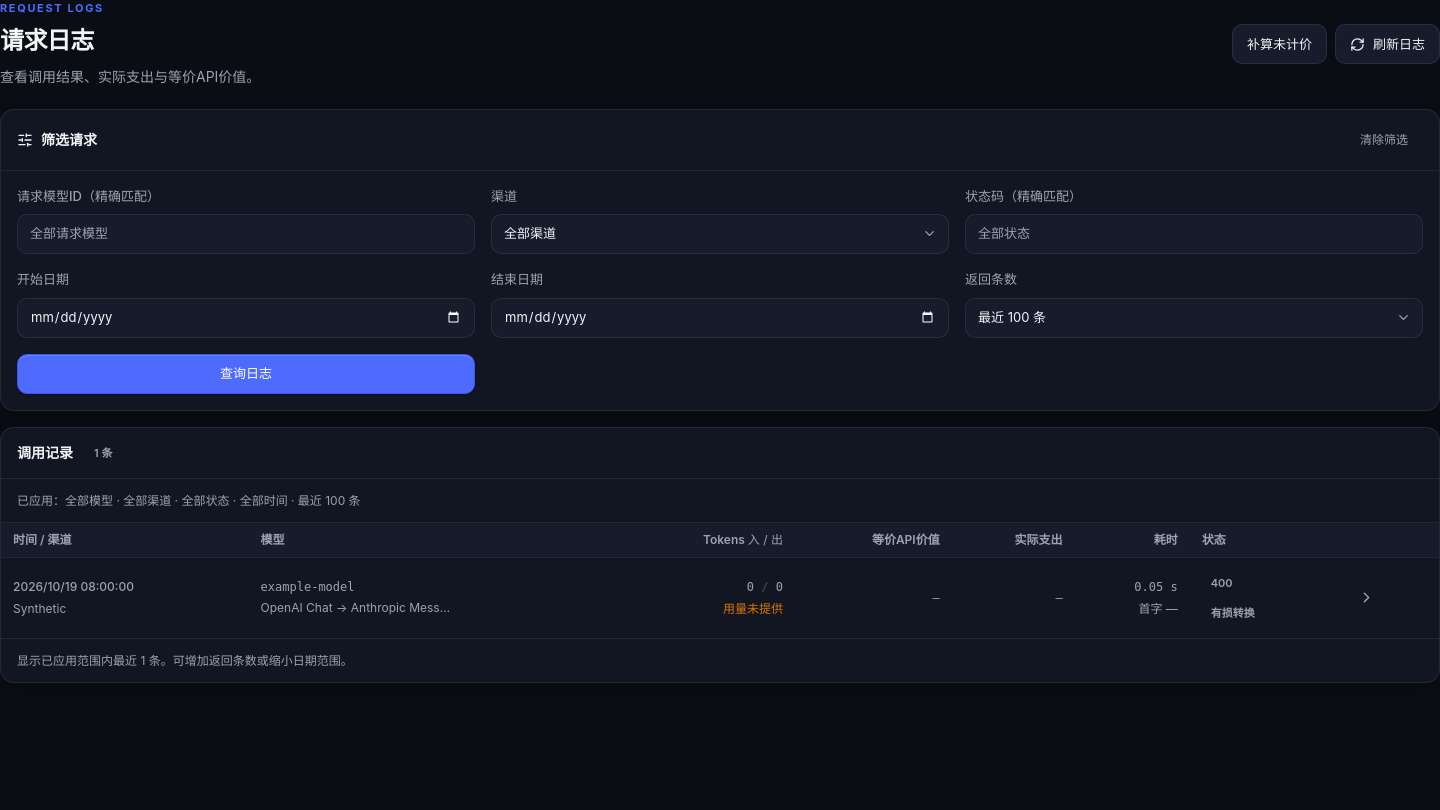
it: request diagnosis › copies only diagnostic fields and necessary request metadata, with success feedback
The image size is (1440, 810).
Click the button named "查看请求 7 详情". click: (1366, 598)
box: [1348,580,1384,616]
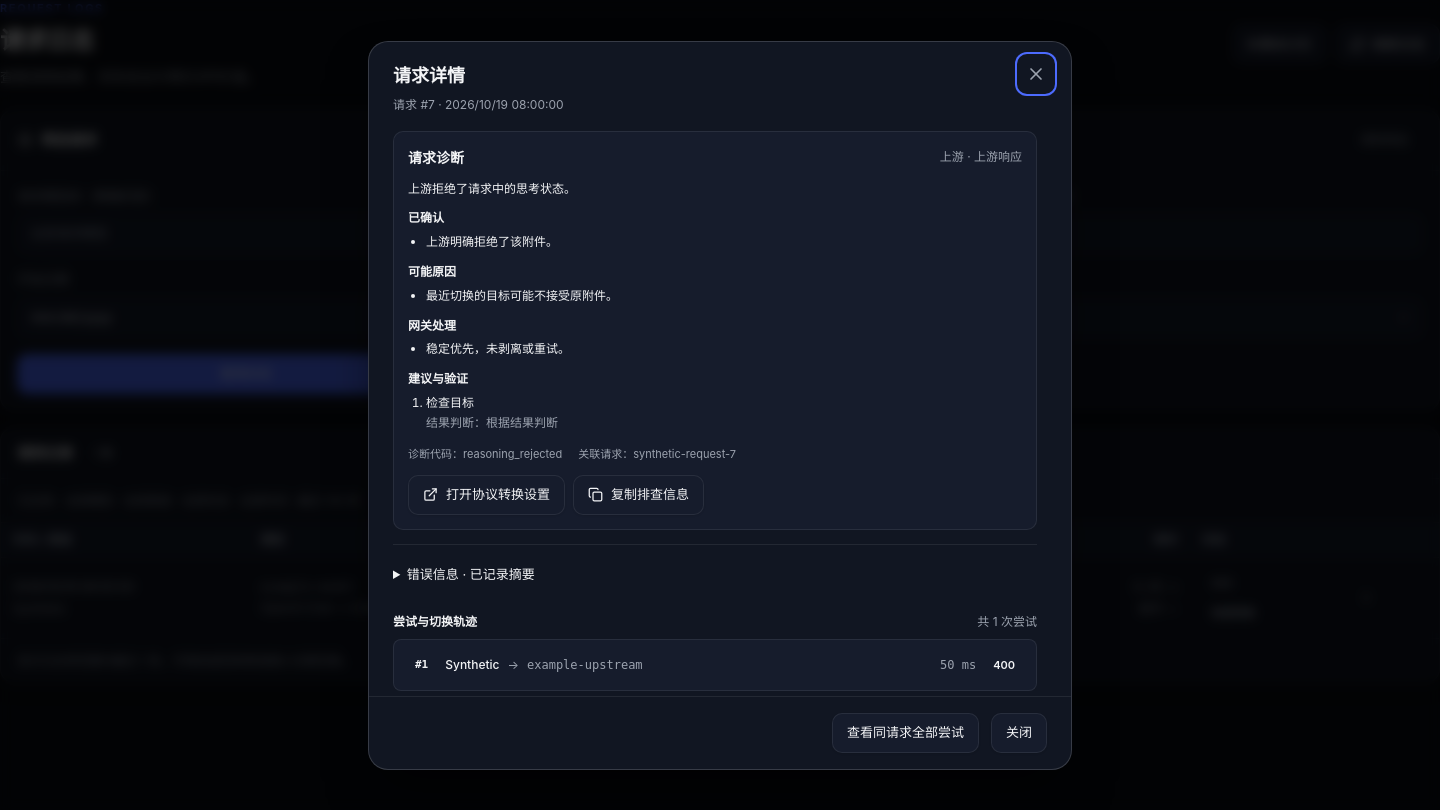
Click the button "复制排查信息". click: (638, 495)
box: [573,475,704,515]
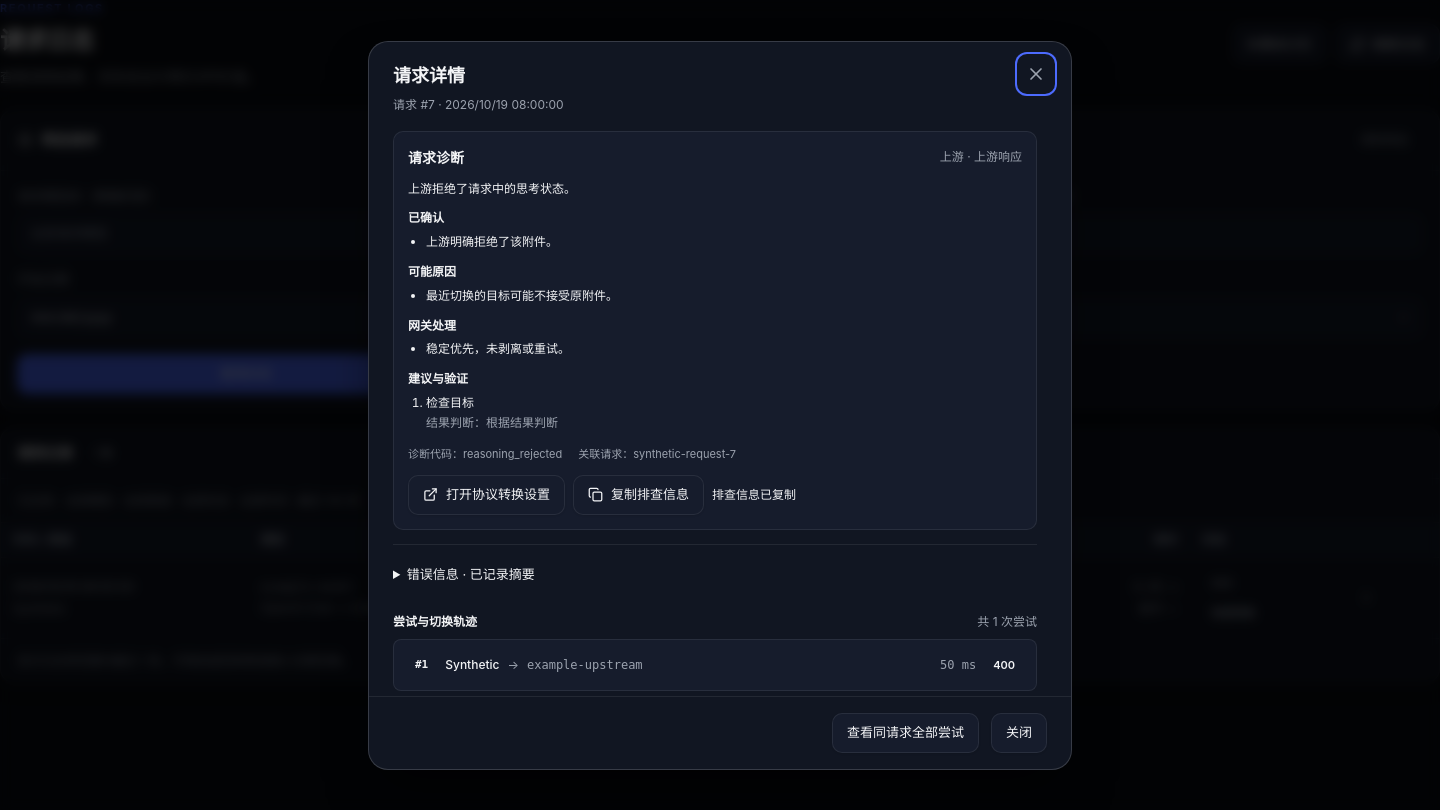
Check: the text "排查信息已复制" is shown, box [712,485,796,505]
